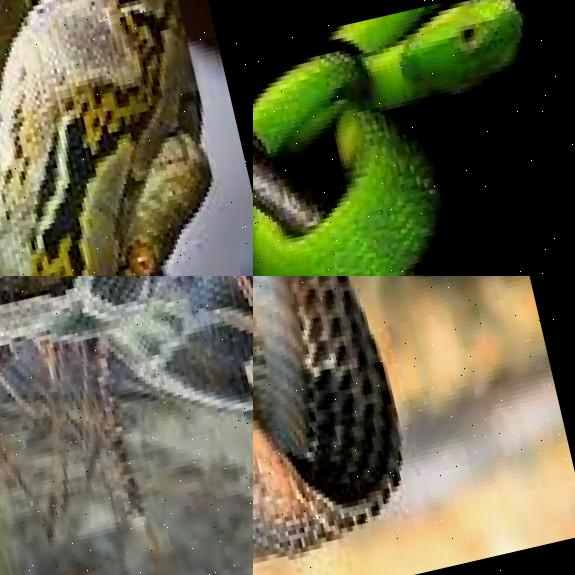1: (253, 276, 445, 575)
3: (0, 0, 253, 276)
4: (253, 0, 575, 276)
snake: (0, 276, 253, 541)
